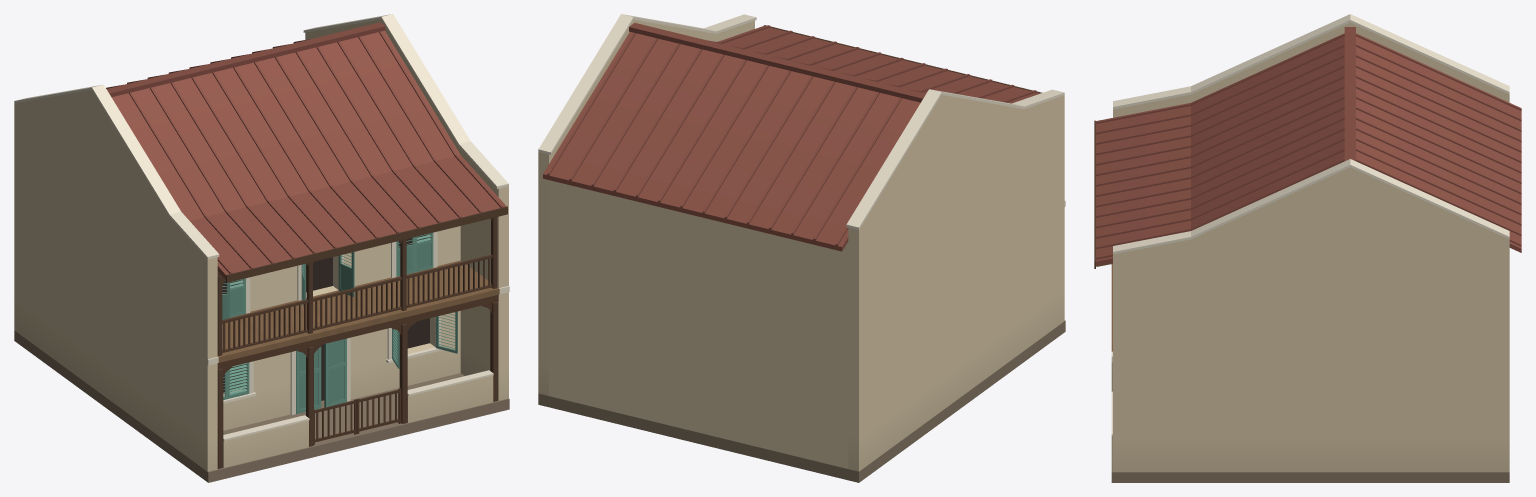
File: merchant-house.glb
The picture shows the model from 3 angles, left to right: view 1: azimuth 30°, elevation 25°; view 2: azimuth 150°, elevation 25°; view 3: azimuth 270°, elevation 25°; orthographic projection. The views are drawn at different scales.
Parts seen in each view (by area): view 1: merchant-house; view 2: merchant-house; view 3: merchant-house.
Boxes of the visible parts, x1=… form: merchant-house: x1=14, y1=14, x2=509, y2=482; merchant-house: x1=538, y1=14, x2=1065, y2=482; merchant-house: x1=1094, y1=14, x2=1521, y2=482.
Size of the model in its own units: 8.96 by 8.82 by 10.73.
